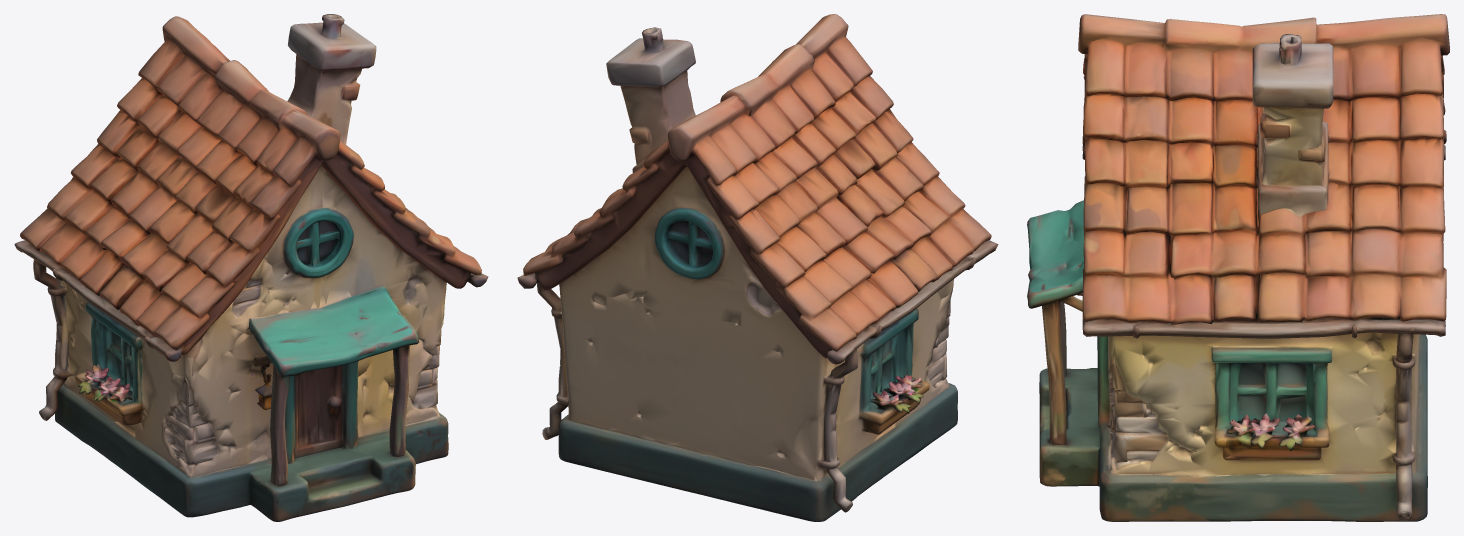
File: house_small.glb
3 renders of one model, left to right at view 1: azimuth 30°, elevation 25°; view 2: azimuth 150°, elevation 25°; view 3: azimuth 270°, elevation 25°, orthographic. The views are drawn at different scales.
Parts seen in each view (by area): view 1: tripo_part_0, tripo_part_1, tripo_part_2, tripo_part_3, tripo_part_4; view 2: tripo_part_0, tripo_part_1, tripo_part_2, tripo_part_4; view 3: tripo_part_0, tripo_part_1, tripo_part_2, tripo_part_4, tripo_part_3.
Part boxes in pixels (left/top/right/bottom): tripo_part_0: left=14, top=16, right=488, bottom=361; tripo_part_1: left=39, top=166, right=446, bottom=477; tripo_part_2: left=55, top=383, right=448, bottom=521; tripo_part_3: left=244, top=280, right=419, bottom=486; tripo_part_4: left=287, top=14, right=376, bottom=144; tripo_part_0: left=517, top=14, right=998, bottom=379; tripo_part_1: left=542, top=167, right=953, bottom=512; tripo_part_2: left=558, top=383, right=957, bottom=521; tripo_part_4: left=606, top=27, right=695, bottom=172; tripo_part_0: left=1078, top=14, right=1449, bottom=363; tripo_part_1: left=1097, top=332, right=1419, bottom=520; tripo_part_2: left=1039, top=334, right=1427, bottom=521; tripo_part_4: left=1252, top=34, right=1337, bottom=229; tripo_part_3: left=1027, top=200, right=1083, bottom=444.
Size of the model in its own units: 0.8459 by 0.98 by 0.8123.
Materials: 1 (1 with a texture image).
